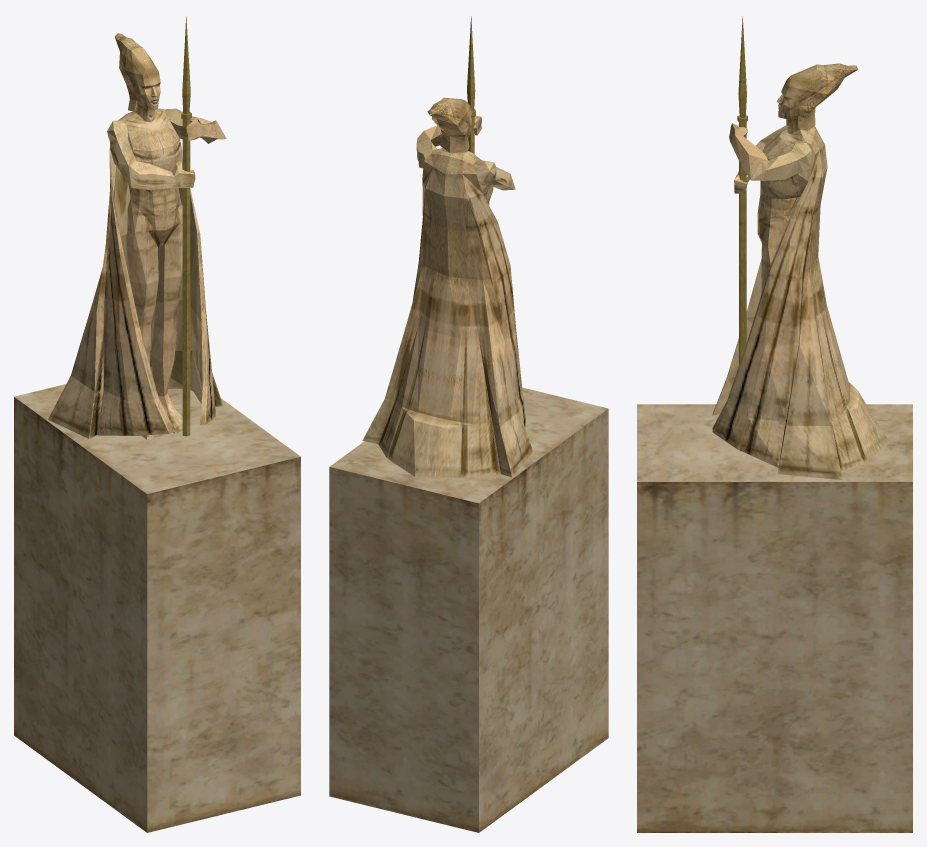
File: thm_tato_guild_statue_freestand_s01_l0.fbx
3 renders of one model, left to right at view 1: azimuth 30°, elevation 25°; view 2: azimuth 150°, elevation 25°; view 3: azimuth 270°, elevation 25°, orthographic. The views are drawn at different scales.
Visible parts, largest first — view 1: mesh_node; view 2: mesh_node; view 3: mesh_node.
Boxes of the visible parts, <box> form: mesh_node: <box>14,16,300,832</box>; mesh_node: <box>329,16,608,832</box>; mesh_node: <box>637,16,912,832</box>.
Size of the model in its own units: 2 by 9.44 by 3.
